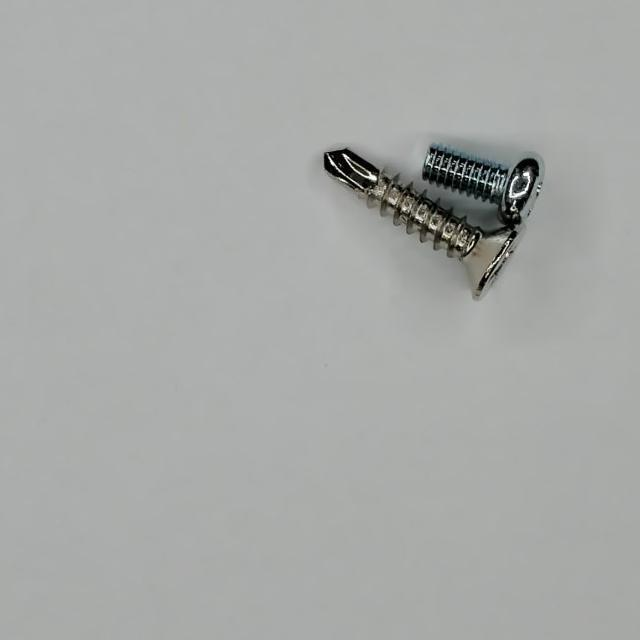Screw: (325, 148, 522, 298), (424, 144, 542, 224)
